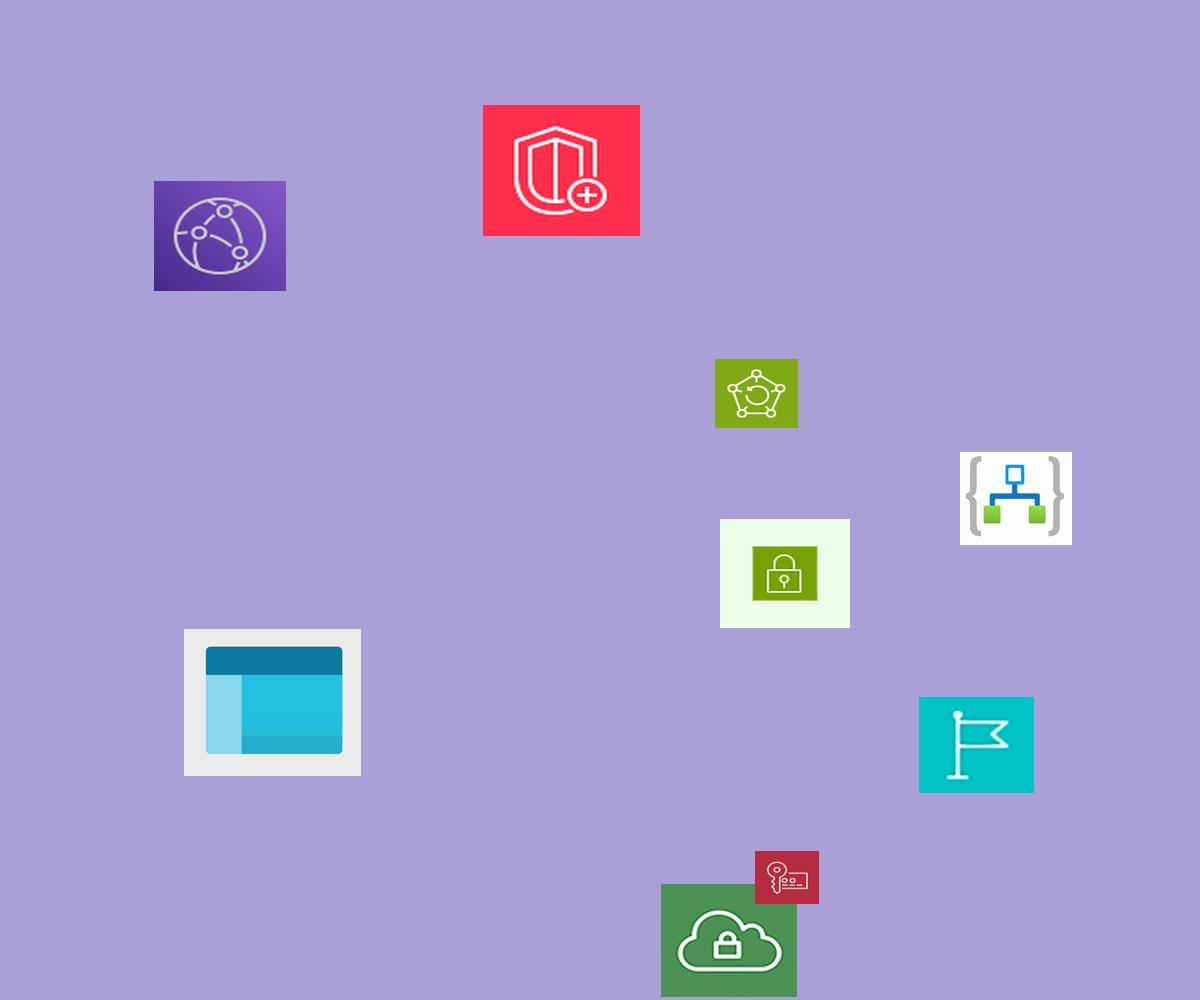AWS-Backup: (715, 359, 798, 428)
AWS-CloudFront: (154, 181, 286, 291)
AWS-Key-Management-Service: (755, 851, 819, 904)
AWS-Private_vpc: (661, 884, 797, 997)
AWS-Public-subnet: (720, 519, 850, 628)
AWS-Region: (919, 697, 1034, 793)
AWS-Shield: (483, 105, 640, 236)
Azure_integration-204-Logic-Apps: (960, 452, 1072, 545)
Azure_management-portal: (184, 629, 361, 776)
